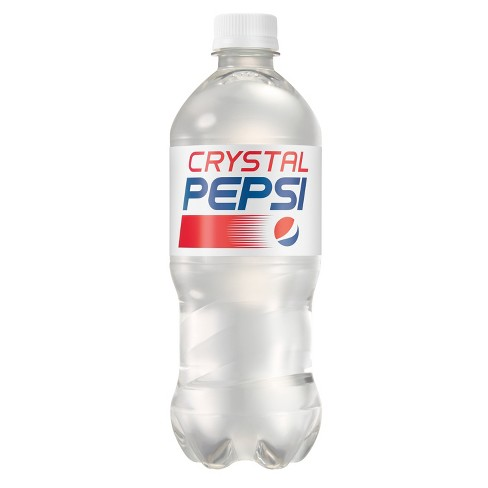pepsi: (269, 213, 303, 248)
